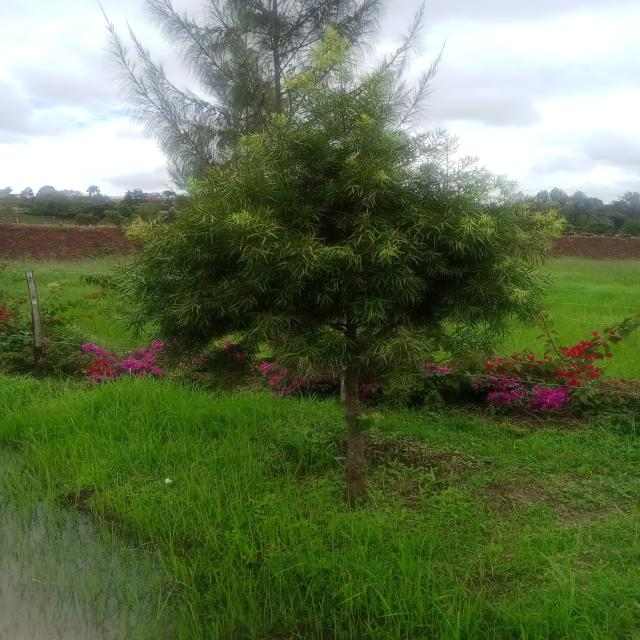Podocarpus falcatus: (134, 57, 556, 504)
